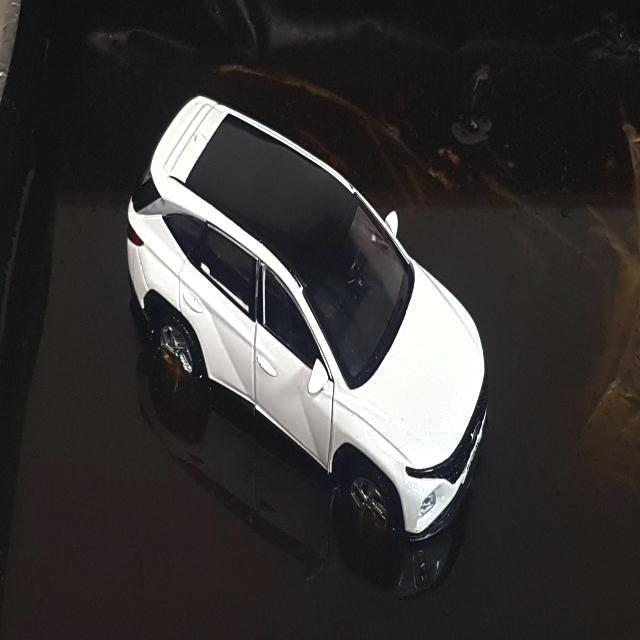water: (0, 2, 353, 638), (325, 3, 637, 638)
